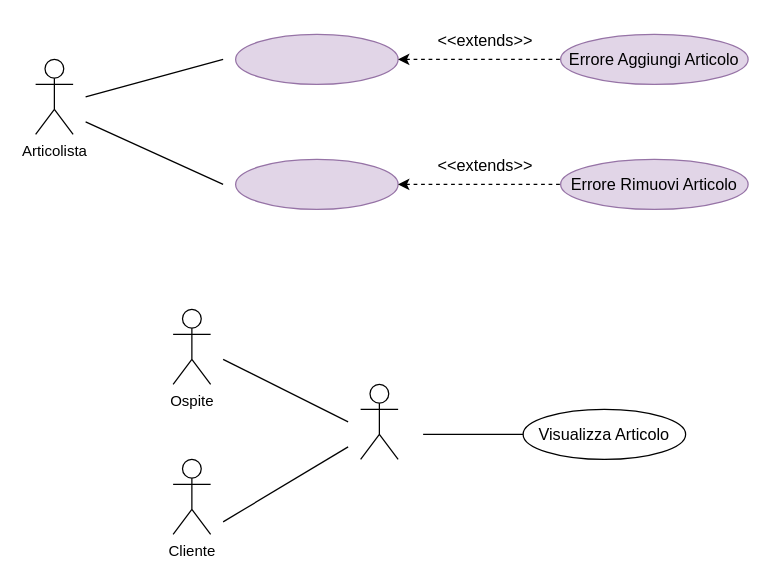
This 770x581 diagram has some shape labels left out. Here are the shapes that lost their labels. From the top down, the centre of each, then its label:
At point 316,58: "Aggiungi Articolo".
At point 316,183: "Rimuovi Articolo".
At point 378,421: "Utente".
